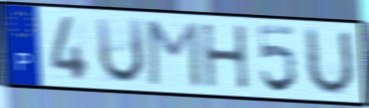4: (48, 14, 90, 83)
5: (257, 22, 300, 95)
H: (199, 22, 252, 91)
M: (146, 18, 204, 90)
U: (93, 15, 148, 86), (304, 25, 357, 98)
